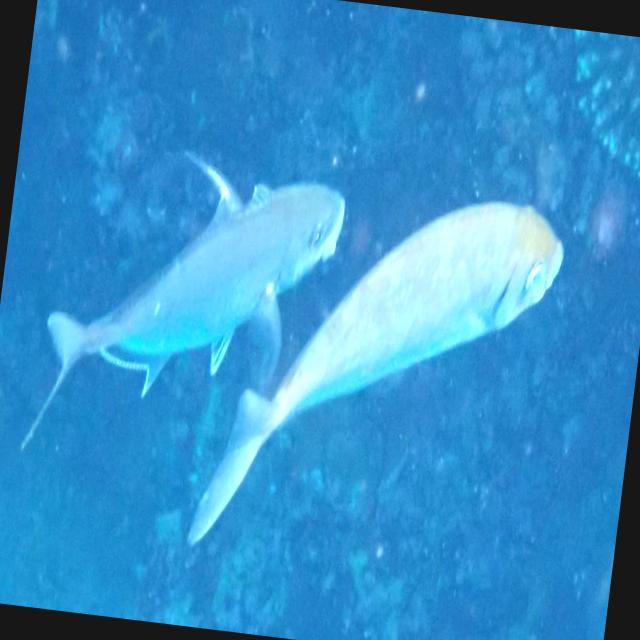Sokar Baligi: (185, 157, 574, 590)
